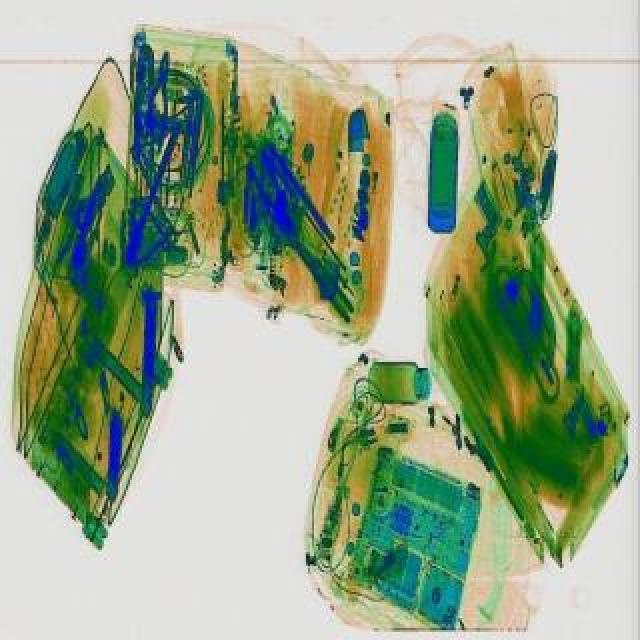wrench: (142, 50, 178, 150), (138, 40, 158, 158)
